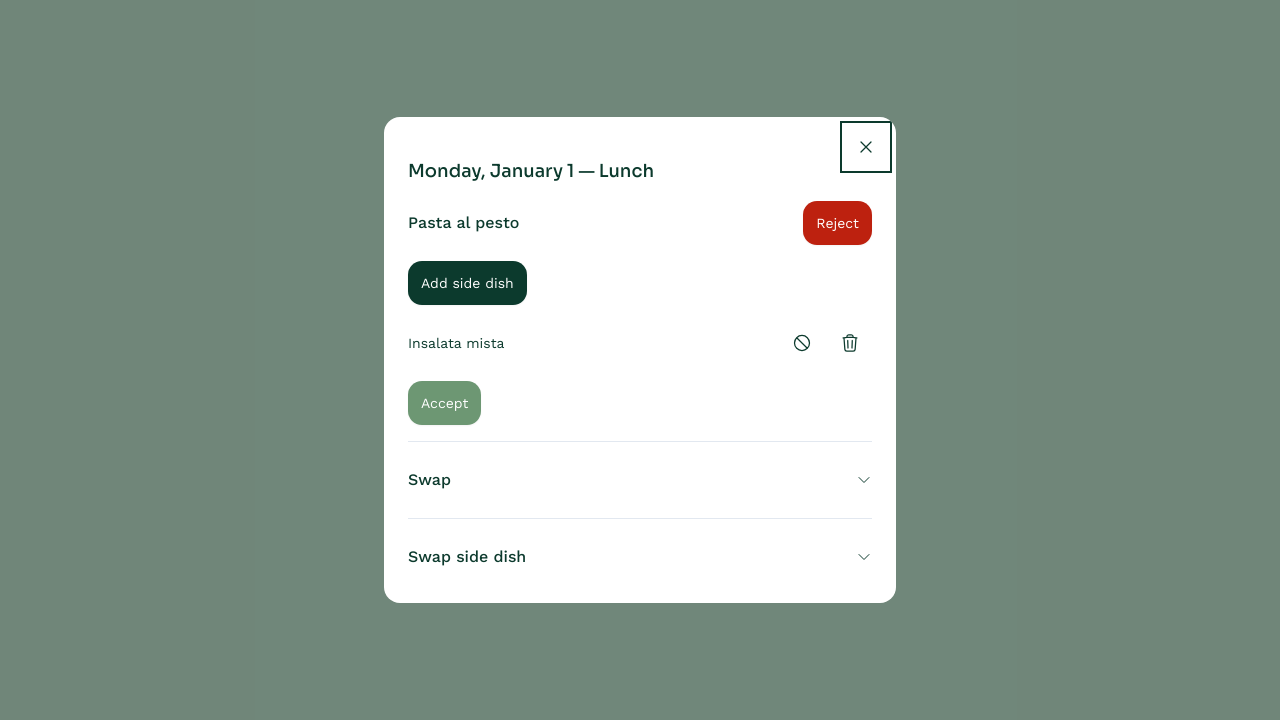
the tag filter toggles are named
What coordinates should you click on to do the following:
click the button "Swap"
I would click on:
 (429, 480)
Its box is [408,458,872,502].
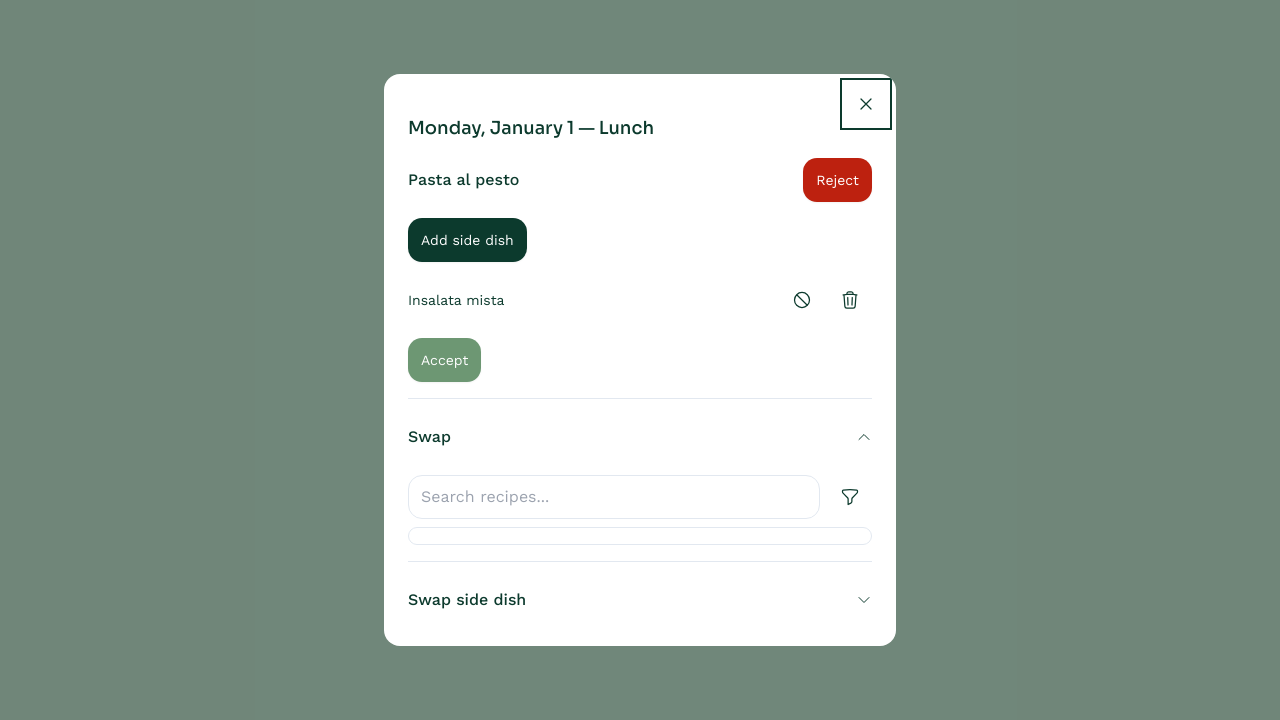
Expected: the button named "filter recipes by tag" is shown, [828,475,872,519]
